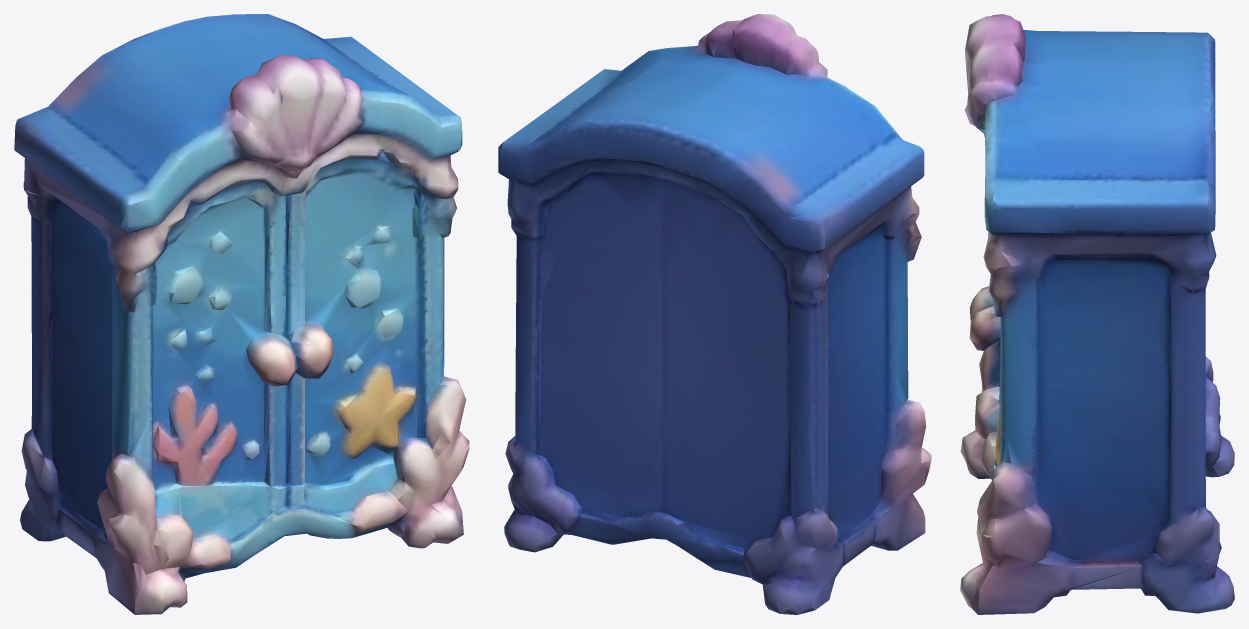
The model's file is cabinet11.glb.
3 views of the same model, side by side, from view 1: azimuth 30°, elevation 25°; view 2: azimuth 150°, elevation 25°; view 3: azimuth 270°, elevation 25° (orthographic). The views are drawn at different scales.
Size of the model in its own units: 0.2201 by 0.2997 by 0.1453.
Materials: 1 (1 with a texture image).
